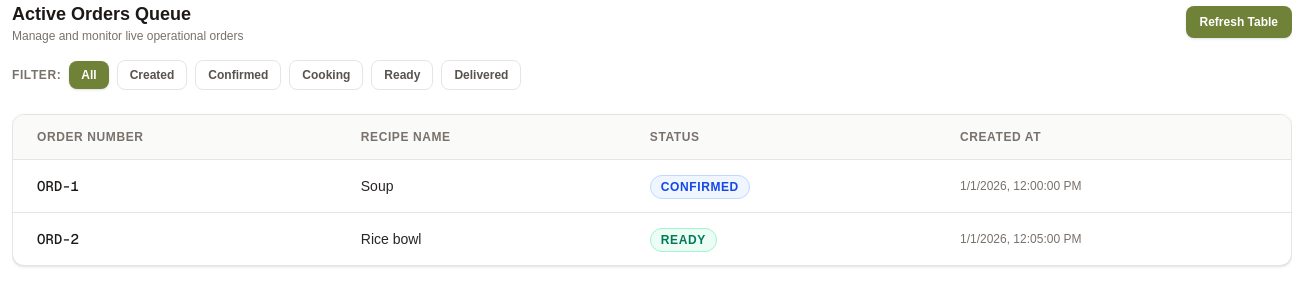
OrdersTable › loads orders and filters by status
Expected: the text "Loading orders..." is shown, [13,115,1291,265]
Expected: the text "ORD-1" is shown, [13,160,337,212]
Click the button "ready" at (402, 75), box [371,60,433,90]
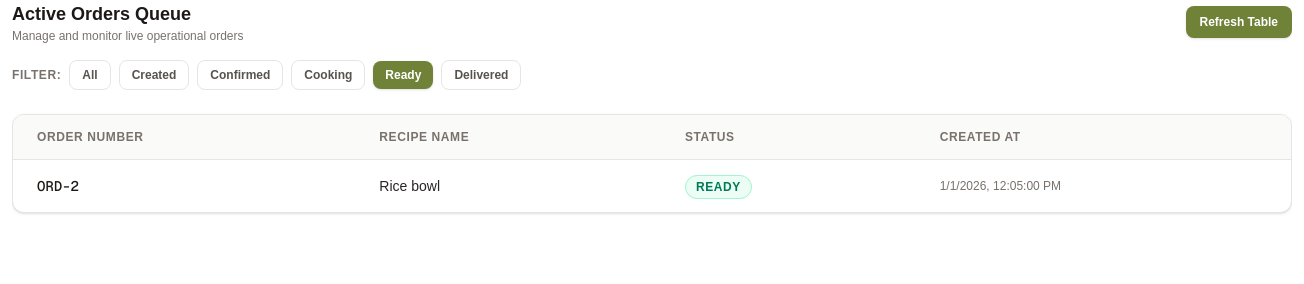
Expected: the text "ORD-2" is shown, [13,160,355,212]
Expected: the text "ORD-1" is gone
